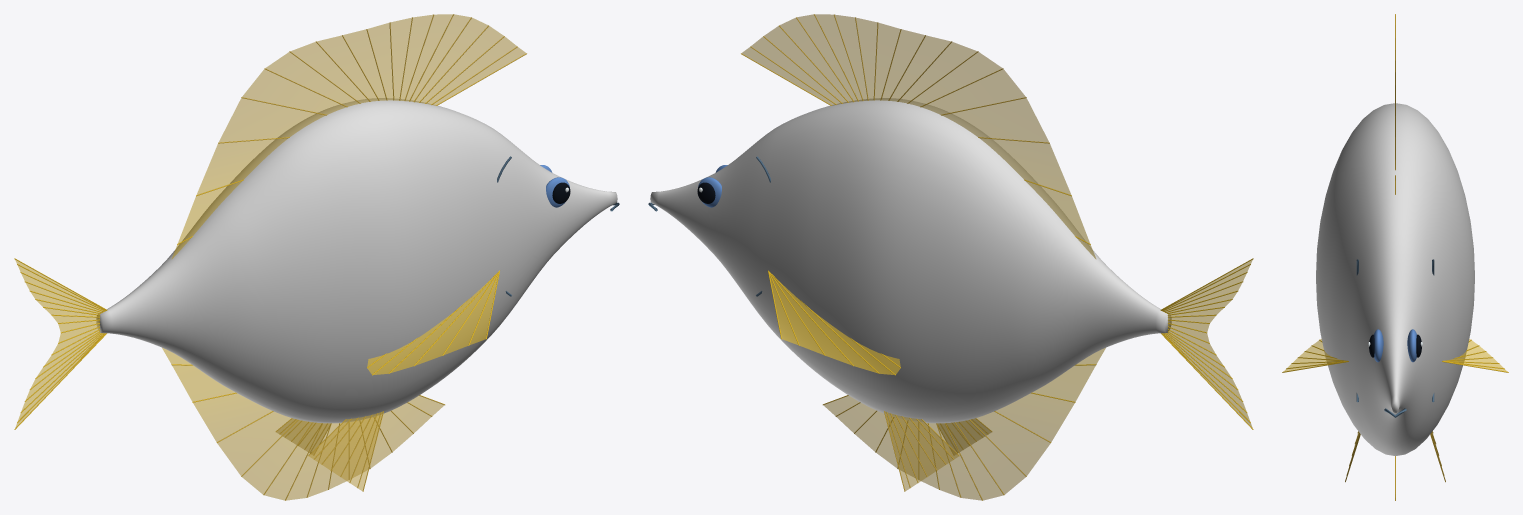
The model's file is yellow-tang.glb.
3 renders of one model, left to right at view 1: azimuth 30°, elevation 25°; view 2: azimuth 150°, elevation 25°; view 3: azimuth 270°, elevation 25°, orthographic.
Visible parts, largest first — view 1: Zebrasoma flavescens sculpted body, dorsal sail, anal sail, caudal fan, pectoral -1, pelvic -1, pelvic 1; view 2: Zebrasoma flavescens sculpted body, dorsal sail, anal sail, caudal fan, pectoral 1, pelvic 1, pelvic -1; view 3: Zebrasoma flavescens sculpted body, pectoral 1, pectoral -1, iris 1, iris -1.
Boxes of the visible parts, x1,y1,x2,y2 form: Zebrasoma flavescens sculpted body: (96, 98, 617, 423); dorsal sail: (172, 14, 525, 258); anal sail: (162, 348, 443, 500); caudal fan: (15, 259, 104, 428); pectoral -1: (367, 275, 497, 374); pelvic -1: (309, 411, 382, 490); pelvic 1: (277, 419, 329, 452); Zebrasoma flavescens sculpted body: (650, 98, 1171, 423); dorsal sail: (742, 14, 1095, 258); anal sail: (824, 348, 1105, 500); caudal fan: (1163, 259, 1252, 428); pectoral 1: (770, 275, 900, 374); pelvic 1: (885, 411, 958, 490); pelvic -1: (938, 419, 990, 452); Zebrasoma flavescens sculpted body: (1316, 103, 1474, 455); pectoral 1: (1448, 339, 1506, 371); pectoral -1: (1284, 339, 1342, 371); iris 1: (1407, 329, 1416, 362); iris -1: (1374, 329, 1383, 362).
Bounding box in the file's own units: 1.7 × 1.22 × 0.5417.
